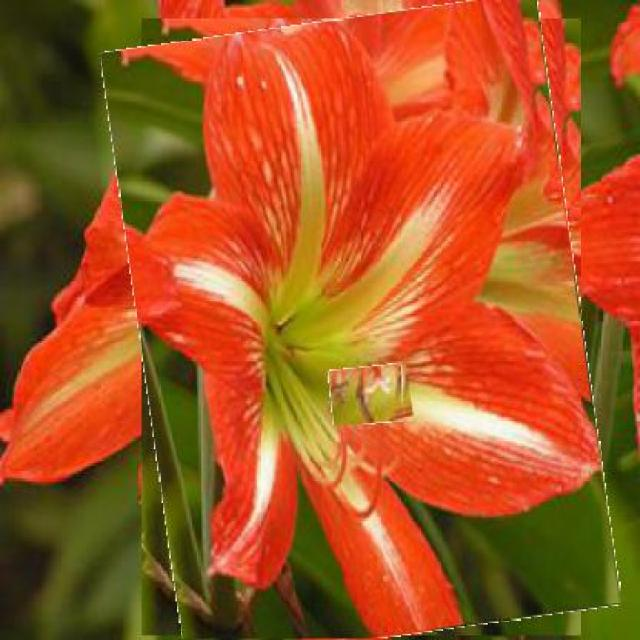Flower: (120, 5, 603, 639), (329, 365, 405, 425)
